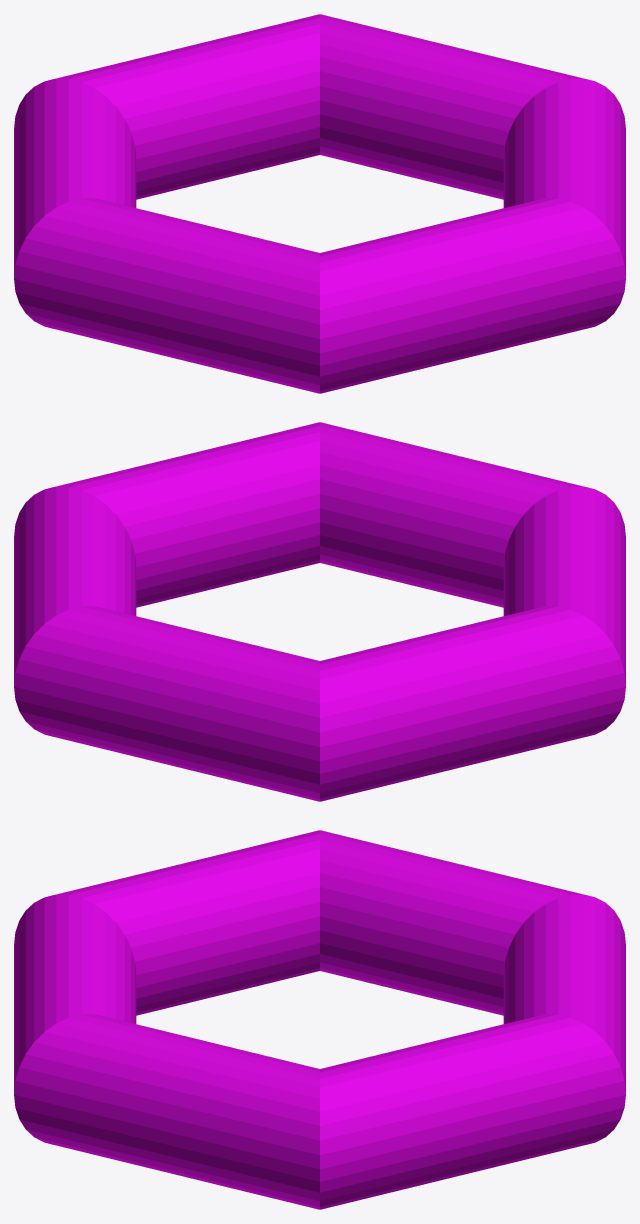
Rendered from ring5.gltf.
3 views of the same model, one above another, from view 1: azimuth 30°, elevation 25°; view 2: azimuth 150°, elevation 25°; view 3: azimuth 270°, elevation 25° (orthographic).
Parts seen in each view (by area): view 1: Torus.006; view 2: Torus.006; view 3: Torus.006.
Boxes of the visible parts, x1,y1,x2,y2 form: Torus.006: (14, 14, 625, 393); Torus.006: (14, 422, 625, 801); Torus.006: (14, 830, 625, 1209).
Size of the model in its own units: 5 by 0.9945 by 4.33.
